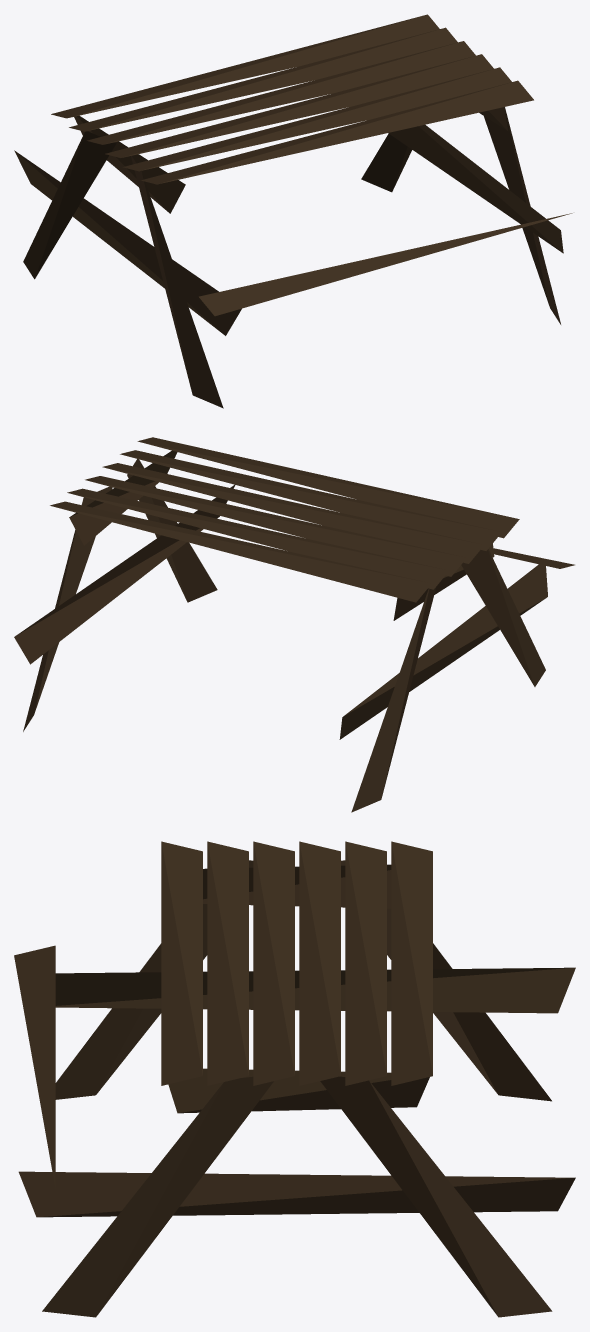
File: picnic-table.lod2.glb
3 views of the same model, one above another, from view 1: azimuth 30°, elevation 25°; view 2: azimuth 150°, elevation 25°; view 3: azimuth 270°, elevation 25° (orthographic). The views are drawn at different scales.
Parts seen in each view (by area): view 1: PicnicTable_Picnic_Table_0; view 2: PicnicTable_Picnic_Table_0; view 3: PicnicTable_Picnic_Table_0.
Part boxes in pixels (<box>): PicnicTable_Picnic_Table_0: <box>14,14,572,408</box>; PicnicTable_Picnic_Table_0: <box>14,437,574,812</box>; PicnicTable_Picnic_Table_0: <box>14,841,575,1317</box>.
Size of the model in its own units: 1.86 by 0.9165 by 1.88.
